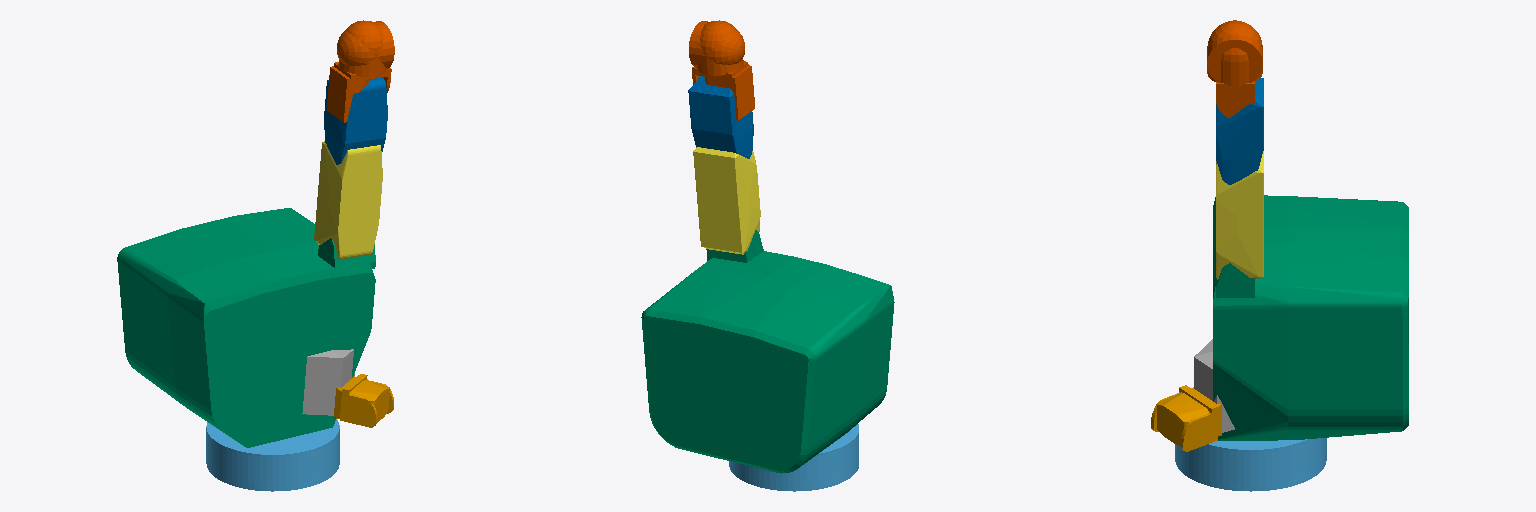
robot.urdf — allegro_hand:
<?xml version="1.0" encoding="UTF-8"?>
<robot name="allegro_hand">
  <joint name="allegro_mount_joint" type="fixed">
    <origin xyz="0.0087313 0.0124859 -0.0276219" rpy="-3.1345563 -1.5707927 -1.5800198"/>
    <parent link="allegro_mount"/>
    <child link="palm_link"/>
  </joint>
  <joint name="index_joint_0" type="revolute">
    <origin xyz="0.0514302 -0.03632 -0.0113 " rpy="-3.1415927 0.0000462 -0.0873565"/>
    <parent link="palm_link"/>
    <child link="index_link_0"/>
    <axis xyz="1. 0. 0."/>
    <limit lower="-0.5584889" upper="0.5584889" effort="21." velocity="6.283"/>
  </joint>
  <joint name="index_joint_1" type="revolute">
    <origin xyz="0. 0. 0." rpy="-1.5707963 0.0001391 1.5708427"/>
    <parent link="index_link_0"/>
    <child link="index_link_1"/>
    <axis xyz="1. 0. 0."/>
    <limit lower="-0.2792444" upper="1.727825" effort="21." velocity="6.283"/>
  </joint>
  <joint name="index_joint_2" type="revolute">
    <origin xyz="0. 0. -0.054" rpy="0. 0. 0."/>
    <parent link="index_link_1"/>
    <child link="index_link_2"/>
    <axis xyz="1. 0. 0."/>
    <limit lower="-0.2792444" upper="1.727825" effort="21." velocity="6.283"/>
  </joint>
  <joint name="index_joint_3" type="revolute">
    <origin xyz="0. 0. -0.0384" rpy="0. 0. 0."/>
    <parent link="index_link_2"/>
    <child link="index_link_3"/>
    <axis xyz="1. 0. 0."/>
    <limit lower="-0.2792444" upper="1.727825" effort="21." velocity="6.283"/>
  </joint>
  <joint name="middle_joint_0" type="revolute">
    <origin xyz="0.0537375 0.0087771 -0.0113 " rpy="-3.1415927 0.0000461 -0.0000926"/>
    <parent link="palm_link"/>
    <child link="middle_link_0"/>
    <axis xyz="1. 0. 0."/>
    <limit lower="-0.5584889" upper="0.5584889" effort="21." velocity="6.283"/>
  </joint>
  <joint name="middle_joint_1" type="revolute">
    <origin xyz="0. 0. 0." rpy="-1.5707963 0.0001391 1.5708427"/>
    <parent link="middle_link_0"/>
    <child link="middle_link_1"/>
    <axis xyz="1. 0. 0."/>
    <limit lower="-0.2792444" upper="1.727825" effort="21." velocity="6.283"/>
  </joint>
  <joint name="middle_joint_2" type="revolute">
    <origin xyz="0. 0. -0.054" rpy="0. 0. 0."/>
    <parent link="middle_link_1"/>
    <child link="middle_link_2"/>
    <axis xyz="1. 0. 0."/>
    <limit lower="-0.2792444" upper="1.727825" effort="21." velocity="6.283"/>
  </joint>
  <joint name="middle_joint_3" type="revolute">
    <origin xyz="0. 0. -0.0384" rpy="0. 0. 0."/>
    <parent link="middle_link_2"/>
    <child link="middle_link_3"/>
    <axis xyz="1. 0. 0."/>
    <limit lower="-0.2792444" upper="1.727825" effort="21." velocity="6.283"/>
  </joint>
  <joint name="ring_joint_0" type="revolute">
    <origin xyz="0.0514302 0.0538749 -0.0113 " rpy="3.1415927 0.0000463 0.0871712"/>
    <parent link="palm_link"/>
    <child link="ring_link_0"/>
    <axis xyz="1. 0. 0."/>
    <limit lower="-0.5584889" upper="0.5584889" effort="21." velocity="6.283"/>
  </joint>
  <joint name="ring_joint_1" type="revolute">
    <origin xyz="0. 0. 0." rpy="-1.5707963 0.0001391 1.5708427"/>
    <parent link="ring_link_0"/>
    <child link="ring_link_1"/>
    <axis xyz="1. 0. 0."/>
    <limit lower="-0.2792444" upper="1.727825" effort="21." velocity="6.283"/>
  </joint>
  <joint name="ring_joint_2" type="revolute">
    <origin xyz="0. 0. -0.054" rpy="0. 0. 0."/>
    <parent link="ring_link_1"/>
    <child link="ring_link_2"/>
    <axis xyz="1. 0. 0."/>
    <limit lower="-0.2792444" upper="1.727825" effort="21." velocity="6.283"/>
  </joint>
  <joint name="ring_joint_3" type="revolute">
    <origin xyz="0. 0. -0.0384" rpy="0. 0. 0."/>
    <parent link="ring_link_2"/>
    <child link="ring_link_3"/>
    <axis xyz="1. 0. 0."/>
    <limit lower="-0.2792444" upper="1.727825" effort="21." velocity="6.283"/>
  </joint>
  <joint name="root_joint" type="fixed">
    <origin xyz="0. 0. 0." rpy="0. 0. 0."/>
    <parent link="allegro"/>
    <child link="allegro_mount"/>
  </joint>
  <joint name="thumb_joint_0" type="revolute">
    <origin xyz="-0.0367482 -0.0081281 -0.0295 " rpy="-3.1415462 -0. 3.0543287"/>
    <parent link="palm_link"/>
    <child link="thumb_link_0"/>
    <axis xyz="1. 0. 0."/>
    <limit lower="0.2792444" upper="1.5707499" effort="21." velocity="6.283"/>
  </joint>
  <joint name="thumb_joint_1" type="revolute">
    <origin xyz="0. 0. -0.005" rpy="0. 0. -1.57075"/>
    <parent link="thumb_link_0"/>
    <child link="thumb_link_1"/>
    <axis xyz="1. 0. 0."/>
    <limit lower="-0.3316028" upper="1.1518834" effort="21." velocity="6.283"/>
  </joint>
  <joint name="thumb_joint_2" type="revolute">
    <origin xyz="0.0554 0. 0. " rpy="1.107286 1.5706928 -2.0343068"/>
    <parent link="thumb_link_1"/>
    <child link="thumb_link_2"/>
    <axis xyz="1. 0. 0."/>
    <limit lower="-0.2792444" upper="1.727825" effort="21." velocity="6.283"/>
  </joint>
  <joint name="thumb_joint_3" type="revolute">
    <origin xyz="0. 0. -0.0514" rpy="0. 0. 0."/>
    <parent link="thumb_link_2"/>
    <child link="thumb_link_3"/>
    <axis xyz="1. 0. 0."/>
    <limit lower="-0.2792444" upper="1.7627305" effort="21." velocity="6.283"/>
  </joint>
  <link name="allegro"/>
  <link name="allegro_mount">
    <inertial>
      <origin xyz="0. 0. 0." rpy="0. 0. 0."/>
      <mass value="0.05"/>
      <inertia ixx="0." ixy="0." ixz="0." iyy="0." iyz="0." izz="0."/>
    </inertial>
    <visual>
      <origin xyz="0. 0.031614 -0.1091265" rpy="0. 0. 0."/>
      <geometry>
        <mesh filename="meshes/allegro_mount_visuals_xform_visuals.obj" scale="1. 1. 1."/>
      </geometry>
    </visual>
    <visual>
      <origin xyz="0. 0.031614 -0.1091265" rpy="0. 0. 0."/>
      <geometry>
        <mesh filename="meshes/allegro_mount_collisions_xform_collisions.obj" scale="1. 1. 1."/>
      </geometry>
    </visual>
    <collision>
      <origin xyz="0. 0.031614 -0.1091265" rpy="0. 0. 0."/>
      <geometry>
        <mesh filename="meshes/allegro_mount_collisions_xform_collisions.obj" scale="1. 1. 1."/>
      </geometry>
    </collision>
  </link>
  <link name="index_link_0">
    <inertial>
      <origin xyz="0. 0. 0." rpy="0. 0. 0."/>
      <mass value="0.005"/>
      <inertia ixx="0." ixy="0." ixz="0." iyy="0." iyz="0." izz="0."/>
    </inertial>
    <visual>
      <origin xyz="0. 0. 0." rpy="0. 1.5707963 0. "/>
      <geometry>
        <mesh filename="meshes/index_link_0_visuals_xform_visuals.obj" scale="1. 1. 1."/>
      </geometry>
    </visual>
    <visual>
      <origin xyz="0. 0. 0." rpy="0. 1.5707963 0. "/>
      <geometry>
        <mesh filename="meshes/index_link_0_collisions_xform_collisions.obj" scale="1. 1. 1."/>
      </geometry>
    </visual>
    <collision>
      <origin xyz="0. 0. 0." rpy="0. 1.5707963 0. "/>
      <geometry>
        <mesh filename="meshes/index_link_0_collisions_xform_collisions.obj" scale="1. 1. 1."/>
      </geometry>
    </collision>
  </link>
  <link name="index_link_1">
    <inertial>
      <origin xyz="0. 0. 0." rpy="0. 0. 0."/>
      <mass value="0.005"/>
      <inertia ixx="0." ixy="0." ixz="0." iyy="0." iyz="0." izz="0."/>
    </inertial>
    <visual>
      <origin xyz="0. 0. 0." rpy="0. 1.5707963 0. "/>
      <geometry>
        <mesh filename="meshes/index_link_1_visuals_xform_visuals.obj" scale="1. 1. 1."/>
      </geometry>
    </visual>
    <visual>
      <origin xyz="0. 0. 0." rpy="0. 1.5707963 0. "/>
      <geometry>
        <mesh filename="meshes/index_link_1_collisions_xform_collisions.obj" scale="1. 1. 1."/>
      </geometry>
    </visual>
    <collision>
      <origin xyz="0. 0. 0." rpy="0. 1.5707963 0. "/>
      <geometry>
        <mesh filename="meshes/index_link_1_collisions_xform_collisions.obj" scale="1. 1. 1."/>
      </geometry>
    </collision>
  </link>
  <link name="index_link_2">
    <inertial>
      <origin xyz="0. 0. 0." rpy="0. 0. 0."/>
      <mass value="0.05"/>
      <inertia ixx="0." ixy="0." ixz="0." iyy="0." iyz="0." izz="0."/>
    </inertial>
    <visual>
      <origin xyz="0. 0. 0." rpy="0. 1.5707963 0. "/>
      <geometry>
        <mesh filename="meshes/index_link_2_visuals_xform_visuals.obj" scale="1. 1. 1."/>
      </geometry>
    </visual>
    <visual>
      <origin xyz="0. 0. 0." rpy="0. 1.5707963 0. "/>
      <geometry>
        <mesh filename="meshes/index_link_2_collisions_xform_collisions.obj" scale="1. 1. 1."/>
      </geometry>
    </visual>
    <collision>
      <origin xyz="0. 0. 0." rpy="0. 1.5707963 0. "/>
      <geometry>
        <mesh filename="meshes/index_link_2_collisions_xform_collisions.obj" scale="1. 1. 1."/>
      </geometry>
    </collision>
  </link>
  <link name="index_link_3">
    <visual>
      <origin xyz="0. 0. 0." rpy="3.1415927 0. 1.5707964"/>
      <geometry>
        <mesh filename="meshes/index_link_3_visuals_01_mesh_0.obj" scale="1. 1. 1."/>
      </geometry>
    </visual>
    <visual>
      <origin xyz="0. 0. -0.0267" rpy="3.1415927 0. 1.5707964"/>
      <geometry>
        <mesh filename="meshes/index_link_3_visuals_01_mesh_1.obj" scale="1. 1. 1."/>
      </geometry>
    </visual>
    <visual>
      <origin xyz="0. 0. 0." rpy="3.1415927 0. 1.5707964"/>
      <geometry>
        <mesh filename="meshes/index_link_3_collisions_mesh_0.obj" scale="1. 1. 1."/>
      </geometry>
    </visual>
    <visual>
      <origin xyz="0. 0. -0.0267" rpy="3.1415927 0. 1.5707964"/>
      <geometry>
        <mesh filename="meshes/index_link_3_collisions_mesh_1.obj" scale="1. 1. 1."/>
      </geometry>
    </visual>
    <collision>
      <origin xyz="0. 0. 0." rpy="3.1415927 0. 1.5707964"/>
      <geometry>
        <mesh filename="meshes/index_link_3_collisions_mesh_0.obj" scale="1. 1. 1."/>
      </geometry>
    </collision>
    <collision>
      <origin xyz="0. 0. -0.0267" rpy="3.1415927 0. 1.5707964"/>
      <geometry>
        <mesh filename="meshes/index_link_3_collisions_mesh_1.obj" scale="1. 1. 1."/>
      </geometry>
    </collision>
  </link>
  <link name="middle_link_0">
    <inertial>
      <origin xyz="0. 0. 0." rpy="0. 0. 0."/>
      <mass value="0.1"/>
      <inertia ixx="0." ixy="0." ixz="0." iyy="0." iyz="0." izz="0."/>
    </inertial>
    <visual>
      <origin xyz="0. 0. 0." rpy="0. 1.5707963 0. "/>
      <geometry>
        <mesh filename="meshes/middle_link_0_visuals_xform_visuals.obj" scale="1. 1. 1."/>
      </geometry>
    </visual>
    <visual>
      <origin xyz="0. 0. 0." rpy="0. 1.5707963 0. "/>
      <geometry>
        <mesh filename="meshes/middle_link_0_collisions_xform_collisions.obj" scale="1. 1. 1."/>
      </geometry>
    </visual>
    <collision>
      <origin xyz="0. 0. 0." rpy="0. 1.5707963 0. "/>
      <geometry>
        <mesh filename="meshes/middle_link_0_collisions_xform_collisions.obj" scale="1. 1. 1."/>
      </geometry>
    </collision>
  </link>
  <link name="middle_link_1">
    <inertial>
      <origin xyz="0. 0. 0." rpy="0. 0. 0."/>
      <mass value="0.1"/>
      <inertia ixx="0." ixy="0." ixz="0." iyy="0." iyz="0." izz="0."/>
    </inertial>
    <visual>
      <origin xyz="0. 0. 0." rpy="0. 1.5707963 0. "/>
      <geometry>
        <mesh filename="meshes/middle_link_1_visuals_xform_visuals.obj" scale="1. 1. 1."/>
      </geometry>
    </visual>
    <visual>
      <origin xyz="0. 0. 0." rpy="0. 1.5707963 0. "/>
      <geometry>
        <mesh filename="meshes/middle_link_1_collisions_xform_collisions.obj" scale="1. 1. 1."/>
      </geometry>
    </visual>
    <collision>
      <origin xyz="0. 0. 0." rpy="0. 1.5707963 0. "/>
      <geometry>
        <mesh filename="meshes/middle_link_1_collisions_xform_collisions.obj" scale="1. 1. 1."/>
      </geometry>
    </collision>
  </link>
  <link name="middle_link_2">
    <inertial>
      <origin xyz="0. 0. 0." rpy="0. 0. 0."/>
      <mass value="0.1"/>
      <inertia ixx="0." ixy="0." ixz="0." iyy="0." iyz="0." izz="0."/>
    </inertial>
    <visual>
      <origin xyz="0. 0. 0." rpy="0. 1.5707963 0. "/>
      <geometry>
        <mesh filename="meshes/middle_link_2_visuals_xform_visuals.obj" scale="1. 1. 1."/>
      </geometry>
    </visual>
    <visual>
      <origin xyz="0. 0. 0." rpy="0. 1.5707963 0. "/>
      <geometry>
        <mesh filename="meshes/middle_link_2_collisions_xform_collisions.obj" scale="1. 1. 1."/>
      </geometry>
    </visual>
    <collision>
      <origin xyz="0. 0. 0." rpy="0. 1.5707963 0. "/>
      <geometry>
        <mesh filename="meshes/middle_link_2_collisions_xform_collisions.obj" scale="1. 1. 1."/>
      </geometry>
    </collision>
  </link>
  <link name="middle_link_3">
    <visual>
      <origin xyz="0. 0. 0." rpy="3.1415927 0. 1.5707964"/>
      <geometry>
        <mesh filename="meshes/middle_link_3_visuals_01_mesh_0.obj" scale="1. 1. 1."/>
      </geometry>
    </visual>
    <visual>
      <origin xyz="0. 0. -0.0267" rpy="3.1415927 0. 1.5707964"/>
      <geometry>
        <mesh filename="meshes/middle_link_3_visuals_01_mesh_1.obj" scale="1. 1. 1."/>
      </geometry>
    </visual>
    <visual>
      <origin xyz="0. 0. 0." rpy="3.1415927 0. 1.5707964"/>
      <geometry>
        <mesh filename="meshes/middle_link_3_collisions_mesh_0.obj" scale="1. 1. 1."/>
      </geometry>
    </visual>
    <visual>
      <origin xyz="0. 0. -0.0267" rpy="3.1415927 0. 1.5707964"/>
      <geometry>
        <mesh filename="meshes/middle_link_3_collisions_mesh_1.obj" scale="1. 1. 1."/>
      </geometry>
    </visual>
    <collision>
      <origin xyz="0. 0. 0." rpy="3.1415927 0. 1.5707964"/>
      <geometry>
        <mesh filename="meshes/middle_link_3_collisions_mesh_0.obj" scale="1. 1. 1."/>
      </geometry>
    </collision>
    <collision>
      <origin xyz="0. 0. -0.0267" rpy="3.1415927 0. 1.5707964"/>
      <geometry>
        <mesh filename="meshes/middle_link_3_collisions_mesh_1.obj" scale="1. 1. 1."/>
      </geometry>
    </collision>
  </link>
  <link name="palm_link">
    <inertial>
      <origin xyz="0. 0. 0." rpy="0. 0. 0."/>
      <mass value="0.4154"/>
      <inertia ixx="0." ixy="0." ixz="0." iyy="0." iyz="0." izz="0."/>
    </inertial>
    <visual>
      <origin xyz="0. 0. 0." rpy="0. 0. 0."/>
      <geometry>
        <mesh filename="meshes/palm_link_visuals_xform_visuals.obj" scale="1. 1. 1."/>
      </geometry>
    </visual>
    <visual>
      <origin xyz="0. 0. 0." rpy="0. 0. 0."/>
      <geometry>
        <mesh filename="meshes/palm_link_collisions_xform_collisions.obj" scale="1. 1. 1."/>
      </geometry>
    </visual>
    <collision>
      <origin xyz="0. 0. 0." rpy="0. 0. 0."/>
      <geometry>
        <mesh filename="meshes/palm_link_collisions_xform_collisions.obj" scale="1. 1. 1."/>
      </geometry>
    </collision>
  </link>
  <link name="ring_link_0">
    <inertial>
      <origin xyz="0. 0. 0." rpy="0. 0. 0."/>
      <mass value="0.1"/>
      <inertia ixx="0." ixy="0." ixz="0." iyy="0." iyz="0." izz="0."/>
    </inertial>
    <visual>
      <origin xyz="0. 0. 0." rpy="0. 1.5707963 0. "/>
      <geometry>
        <mesh filename="meshes/ring_link_0_visuals_xform_visuals.obj" scale="1. 1. 1."/>
      </geometry>
    </visual>
    <visual>
      <origin xyz="0. 0. 0." rpy="0. 1.5707963 0. "/>
      <geometry>
        <mesh filename="meshes/ring_link_0_collisions_xform_collisions.obj" scale="1. 1. 1."/>
      </geometry>
    </visual>
    <collision>
      <origin xyz="0. 0. 0." rpy="0. 1.5707963 0. "/>
      <geometry>
        <mesh filename="meshes/ring_link_0_collisions_xform_collisions.obj" scale="1. 1. 1."/>
      </geometry>
    </collision>
  </link>
  <link name="ring_link_1">
    <inertial>
      <origin xyz="0. 0. 0." rpy="0. 0. 0."/>
      <mass value="0.1"/>
      <inertia ixx="0." ixy="0." ixz="0." iyy="0." iyz="0." izz="0."/>
    </inertial>
    <visual>
      <origin xyz="0. 0. 0." rpy="0. 1.5707963 0. "/>
      <geometry>
        <mesh filename="meshes/ring_link_1_visuals_xform_visuals.obj" scale="1. 1. 1."/>
      </geometry>
    </visual>
    <visual>
      <origin xyz="0. 0. 0." rpy="0. 1.5707963 0. "/>
      <geometry>
        <mesh filename="meshes/ring_link_1_collisions_xform_collisions.obj" scale="1. 1. 1."/>
      </geometry>
    </visual>
    <collision>
      <origin xyz="0. 0. 0." rpy="0. 1.5707963 0. "/>
      <geometry>
        <mesh filename="meshes/ring_link_1_collisions_xform_collisions.obj" scale="1. 1. 1."/>
      </geometry>
    </collision>
  </link>
  <link name="ring_link_2">
    <inertial>
      <origin xyz="0. 0. 0." rpy="0. 0. 0."/>
      <mass value="0.1"/>
      <inertia ixx="0." ixy="0." ixz="0." iyy="0." iyz="0." izz="0."/>
    </inertial>
    <visual>
      <origin xyz="0. 0. 0." rpy="0. 1.5707963 0. "/>
      <geometry>
        <mesh filename="meshes/ring_link_2_visuals_xform_visuals.obj" scale="1. 1. 1."/>
      </geometry>
    </visual>
    <visual>
      <origin xyz="0. 0. 0." rpy="0. 1.5707963 0. "/>
      <geometry>
        <mesh filename="meshes/ring_link_2_collisions_xform_collisions.obj" scale="1. 1. 1."/>
      </geometry>
    </visual>
    <collision>
      <origin xyz="0. 0. 0." rpy="0. 1.5707963 0. "/>
      <geometry>
        <mesh filename="meshes/ring_link_2_collisions_xform_collisions.obj" scale="1. 1. 1."/>
      </geometry>
    </collision>
  </link>
  <link name="ring_link_3">
    <visual>
      <origin xyz="0. 0. 0." rpy="3.1415927 0. 1.5707964"/>
      <geometry>
        <mesh filename="meshes/ring_link_3_visuals_01_mesh_0.obj" scale="1. 1. 1."/>
      </geometry>
    </visual>
    <visual>
      <origin xyz="0. 0. -0.0267" rpy="3.1415927 0. 1.5707964"/>
      <geometry>
        <mesh filename="meshes/ring_link_3_visuals_01_mesh_1.obj" scale="1. 1. 1."/>
      </geometry>
    </visual>
    <visual>
      <origin xyz="0. 0. 0." rpy="3.1415927 0. 1.5707964"/>
      <geometry>
        <mesh filename="meshes/ring_link_3_collisions_mesh_0.obj" scale="1. 1. 1."/>
      </geometry>
    </visual>
    <visual>
      <origin xyz="0. 0. -0.0267" rpy="3.1415927 0. 1.5707964"/>
      <geometry>
        <mesh filename="meshes/ring_link_3_collisions_mesh_1.obj" scale="1. 1. 1."/>
      </geometry>
    </visual>
    <collision>
      <origin xyz="0. 0. 0." rpy="3.1415927 0. 1.5707964"/>
      <geometry>
        <mesh filename="meshes/ring_link_3_collisions_mesh_0.obj" scale="1. 1. 1."/>
      </geometry>
    </collision>
    <collision>
      <origin xyz="0. 0. -0.0267" rpy="3.1415927 0. 1.5707964"/>
      <geometry>
        <mesh filename="meshes/ring_link_3_collisions_mesh_1.obj" scale="1. 1. 1."/>
      </geometry>
    </collision>
  </link>
  <link name="thumb_link_0">
    <inertial>
      <origin xyz="0. 0. 0." rpy="0. 0. 0."/>
      <mass value="0.1"/>
      <inertia ixx="0." ixy="0." ixz="0." iyy="0." iyz="0." izz="0."/>
    </inertial>
    <visual>
      <origin xyz="0. 0. 0." rpy="0. 1.5707963 0. "/>
      <geometry>
        <mesh filename="meshes/thumb_link_0_visuals_xform_visuals.obj" scale="1. 1. 1."/>
      </geometry>
    </visual>
    <visual>
      <origin xyz="0. 0. 0." rpy="0. 1.5707963 0. "/>
      <geometry>
        <mesh filename="meshes/thumb_link_0_collisions_xform_collisions.obj" scale="1. 1. 1."/>
      </geometry>
    </visual>
    <collision>
      <origin xyz="0. 0. 0." rpy="0. 1.5707963 0. "/>
      <geometry>
        <mesh filename="meshes/thumb_link_0_collisions_xform_collisions.obj" scale="1. 1. 1."/>
      </geometry>
    </collision>
  </link>
  <link name="thumb_link_1">
    <inertial>
      <origin xyz="0. 0. 0." rpy="0. 0. 0."/>
      <mass value="0.1"/>
      <inertia ixx="0." ixy="0." ixz="0." iyy="0." iyz="0." izz="0."/>
    </inertial>
    <visual>
      <origin xyz="0. 0. 0." rpy="0. 1.5707963 0. "/>
      <geometry>
        <mesh filename="meshes/thumb_link_1_visuals_xform_visuals.obj" scale="1. 1. 1."/>
      </geometry>
    </visual>
    <visual>
      <origin xyz="0. 0. 0." rpy="0. 1.5707963 0. "/>
      <geometry>
        <mesh filename="meshes/thumb_link_1_collisions_xform_collisions.obj" scale="1. 1. 1."/>
      </geometry>
    </visual>
    <collision>
      <origin xyz="0. 0. 0." rpy="0. 1.5707963 0. "/>
      <geometry>
        <mesh filename="meshes/thumb_link_1_collisions_xform_collisions.obj" scale="1. 1. 1."/>
      </geometry>
    </collision>
  </link>
  <link name="thumb_link_2">
    <inertial>
      <origin xyz="0. 0. 0." rpy="0. 0. 0."/>
      <mass value="0.1"/>
      <inertia ixx="0." ixy="0." ixz="0." iyy="0." iyz="0." izz="0."/>
    </inertial>
    <visual>
      <origin xyz="0. 0. 0." rpy="0. 1.5707963 0. "/>
      <geometry>
        <mesh filename="meshes/thumb_link_2_visuals_xform_visuals.obj" scale="1. 1. 1."/>
      </geometry>
    </visual>
    <visual>
      <origin xyz="0. 0. 0." rpy="0. 1.5707963 0. "/>
      <geometry>
        <mesh filename="meshes/thumb_link_2_collisions_xform_collisions.obj" scale="1. 1. 1."/>
      </geometry>
    </visual>
    <collision>
      <origin xyz="0. 0. 0." rpy="0. 1.5707963 0. "/>
      <geometry>
        <mesh filename="meshes/thumb_link_2_collisions_xform_collisions.obj" scale="1. 1. 1."/>
      </geometry>
    </collision>
  </link>
  <link name="thumb_link_3">
    <visual>
      <origin xyz="0. 0. 0." rpy="3.1415927 0. 1.5707964"/>
      <geometry>
        <mesh filename="meshes/thumb_link_3_visuals_01_mesh_0.obj" scale="1. 1. 1."/>
      </geometry>
    </visual>
    <visual>
      <origin xyz="0. 0. -0.0267" rpy="3.1415927 0. 1.5707964"/>
      <geometry>
        <mesh filename="meshes/thumb_link_3_visuals_01_mesh_1.obj" scale="1. 1. 1."/>
      </geometry>
    </visual>
    <visual>
      <origin xyz="0. 0. 0." rpy="3.1415927 0. 1.5707964"/>
      <geometry>
        <mesh filename="meshes/thumb_link_3_collisions_mesh_0.obj" scale="1. 1. 1."/>
      </geometry>
    </visual>
    <visual>
      <origin xyz="0. 0. -0.0267" rpy="3.1415927 0. 1.5707964"/>
      <geometry>
        <mesh filename="meshes/thumb_link_3_collisions_mesh_1.obj" scale="1. 1. 1."/>
      </geometry>
    </visual>
    <collision>
      <origin xyz="0. 0. 0." rpy="3.1415927 0. 1.5707964"/>
      <geometry>
        <mesh filename="meshes/thumb_link_3_collisions_mesh_0.obj" scale="1. 1. 1."/>
      </geometry>
    </collision>
    <collision>
      <origin xyz="0. 0. -0.0267" rpy="3.1415927 0. 1.5707964"/>
      <geometry>
        <mesh filename="meshes/thumb_link_3_collisions_mesh_1.obj" scale="1. 1. 1."/>
      </geometry>
    </collision>
  </link>
</robot>

--- Render facts (derived) ---
Views: 3 orthographic renders of the robot side by side, from view 1: azimuth 30°, elevation 25°; view 2: azimuth 150°, elevation 25°; view 3: azimuth 270°, elevation 25°.
Model allegro_hand with 19 links and 18 joints (16 revolute, 2 fixed), rooted at allegro, posed joints at zero except 1 at the middle of their limits (thumb_joint_0 = 0.925).
Links seen in each view (by area): view 1: palm_link, allegro_mount, index_link_1, index_link_3, index_link_2, thumb_link_0, thumb_link_1, index_link_0; view 2: palm_link, index_link_1, index_link_3, allegro_mount, index_link_2, index_link_0; view 3: palm_link, allegro_mount, index_link_1, index_link_3, index_link_2, thumb_link_1, thumb_link_0, index_link_0.
Boxes of the visible links, <box> form: palm_link: <box>117,208,375,447</box>; allegro_mount: <box>206,419,339,491</box>; index_link_1: <box>314,141,382,259</box>; index_link_3: <box>327,20,394,122</box>; index_link_2: <box>324,77,387,164</box>; thumb_link_0: <box>302,349,354,415</box>; thumb_link_1: <box>334,374,393,427</box>; index_link_0: <box>318,238,375,268</box>; palm_link: <box>641,251,894,473</box>; index_link_1: <box>693,147,760,254</box>; index_link_3: <box>689,20,754,120</box>; allegro_mount: <box>729,424,858,491</box>; index_link_2: <box>688,76,753,158</box>; index_link_0: <box>706,230,763,262</box>; palm_link: <box>1213,195,1408,440</box>; allegro_mount: <box>1175,438,1326,491</box>; index_link_1: <box>1216,151,1263,279</box>; index_link_3: <box>1207,20,1262,118</box>; index_link_2: <box>1216,78,1263,184</box>; thumb_link_1: <box>1151,385,1221,451</box>; thumb_link_0: <box>1194,339,1234,432</box>; index_link_0: <box>1216,263,1254,297</box>.
Size in the robot's own frame: 0.1281 by 0.1294 by 0.2675 metres.
17 mesh visuals loaded from 44 distinct referenced files (17 OBJ); not drawn: 27 (reference not matched to a file when rendering).